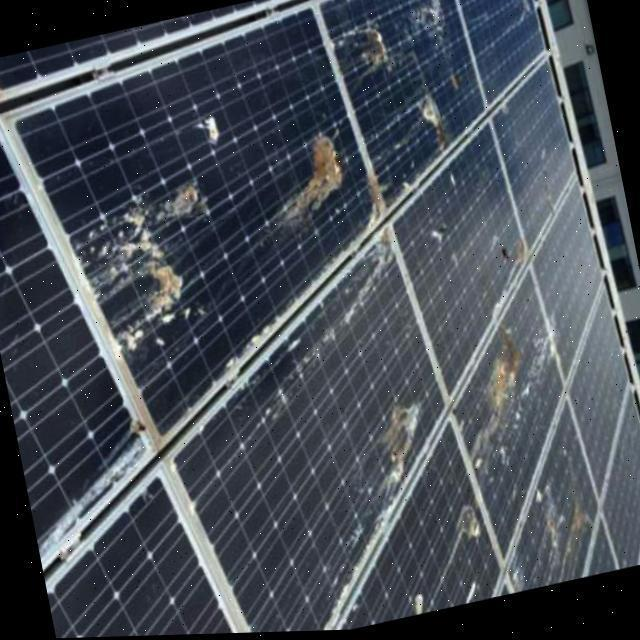Anomaly Solar Panel: (14, 0, 445, 434), (98, 197, 507, 636), (0, 107, 169, 575), (377, 124, 567, 392), (319, 0, 510, 207), (30, 464, 252, 639), (331, 416, 505, 632), (455, 265, 566, 564), (479, 60, 601, 251), (516, 182, 632, 379), (549, 291, 640, 496), (463, 0, 558, 103), (593, 398, 640, 579)
Surface Contaminant: (58, 162, 256, 356), (253, 225, 419, 426), (264, 128, 366, 248), (509, 484, 598, 597), (467, 327, 533, 472), (406, 0, 456, 95), (376, 398, 425, 494), (342, 14, 408, 83), (410, 89, 465, 155), (449, 499, 490, 547), (205, 112, 228, 147), (405, 589, 430, 619)
